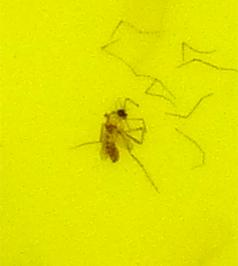Nematocera: (100, 100, 138, 166)
